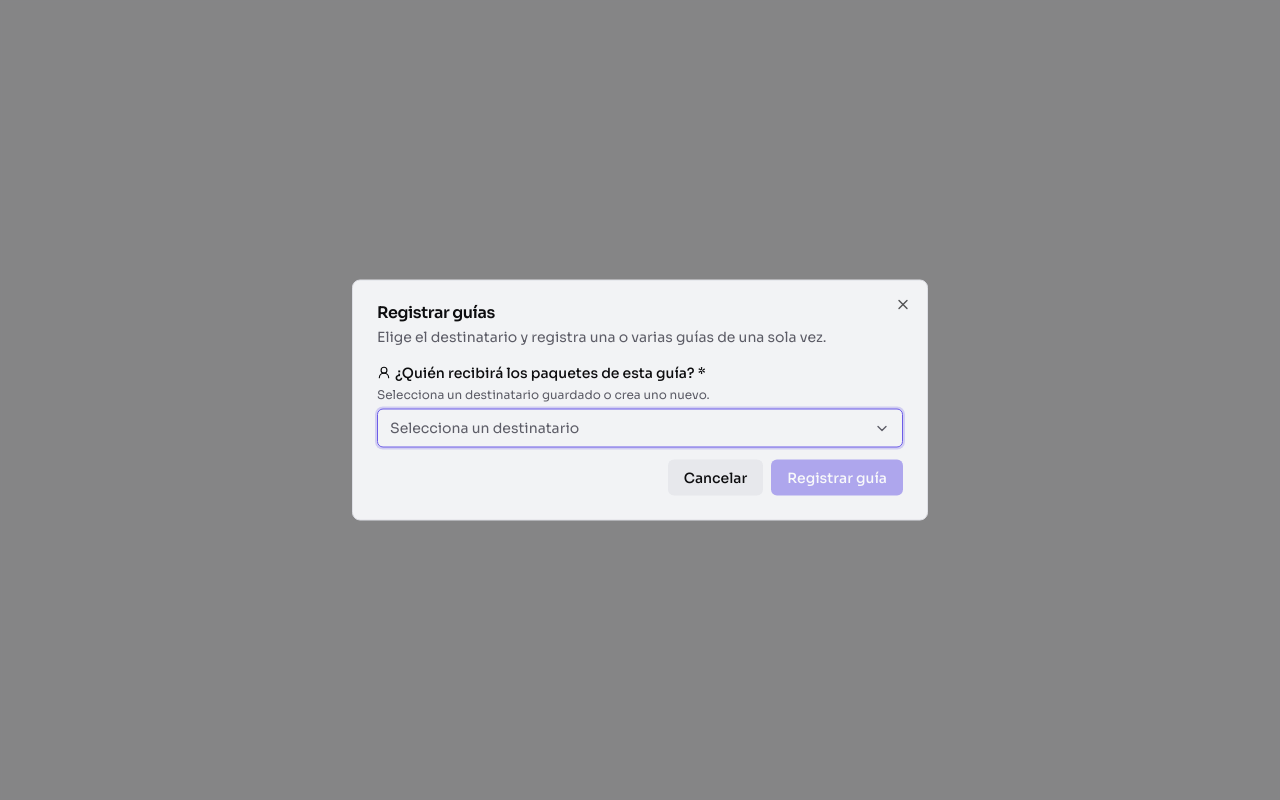
RegistrarMisGuiasDialog · ayuda de número de guía › muestra un aviso NO bloqueante si el valor parece un número de pedido
Step 1. Click the button named "quién recibirá" → {"x": 485, "y": 428}, box left=377, top=408, right=903, bottom=448
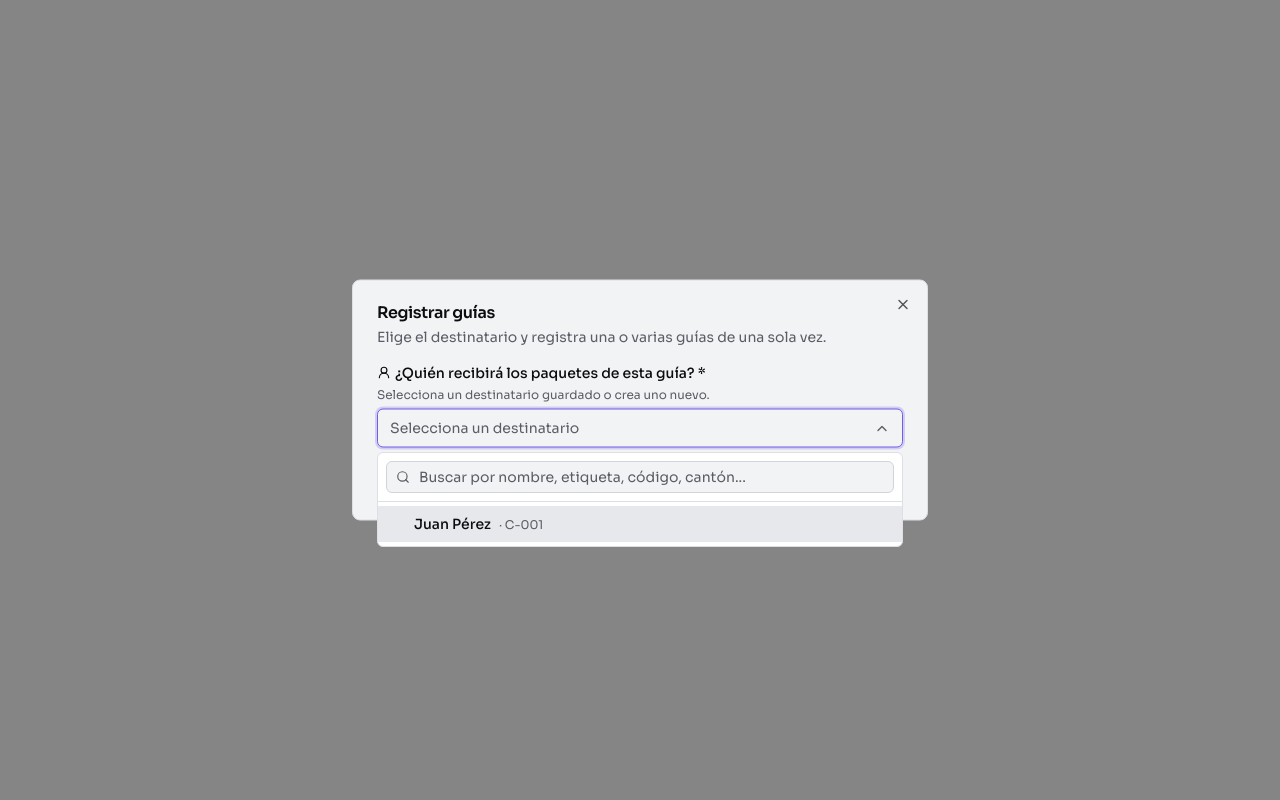
Step 2. Click the text "Juan Pérez" → {"x": 452, "y": 524}, box left=414, top=514, right=491, bottom=534
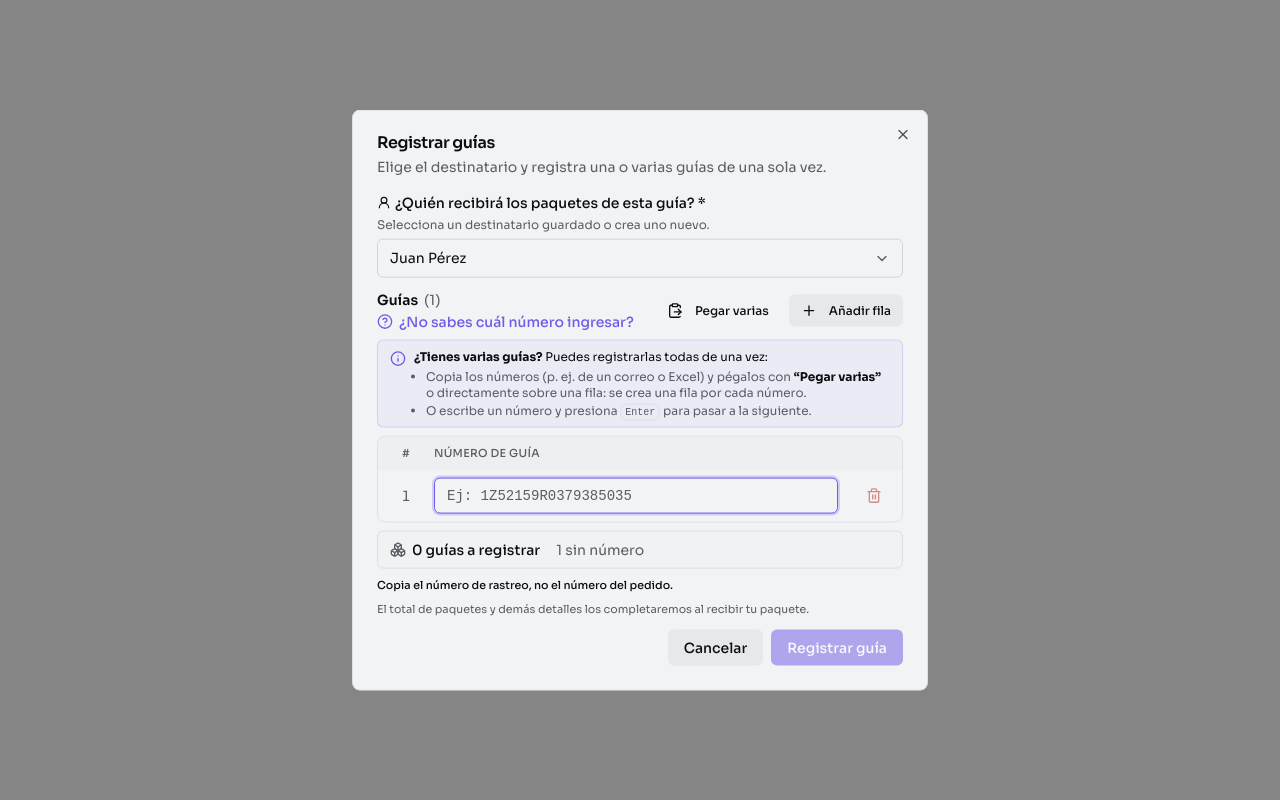
Step 3. Type "114-1234567-1234567" into the field with placeholder "Ej: 1Z52159R0379385035" → {"x": 636, "y": 495}, box left=434, top=477, right=838, bottom=513
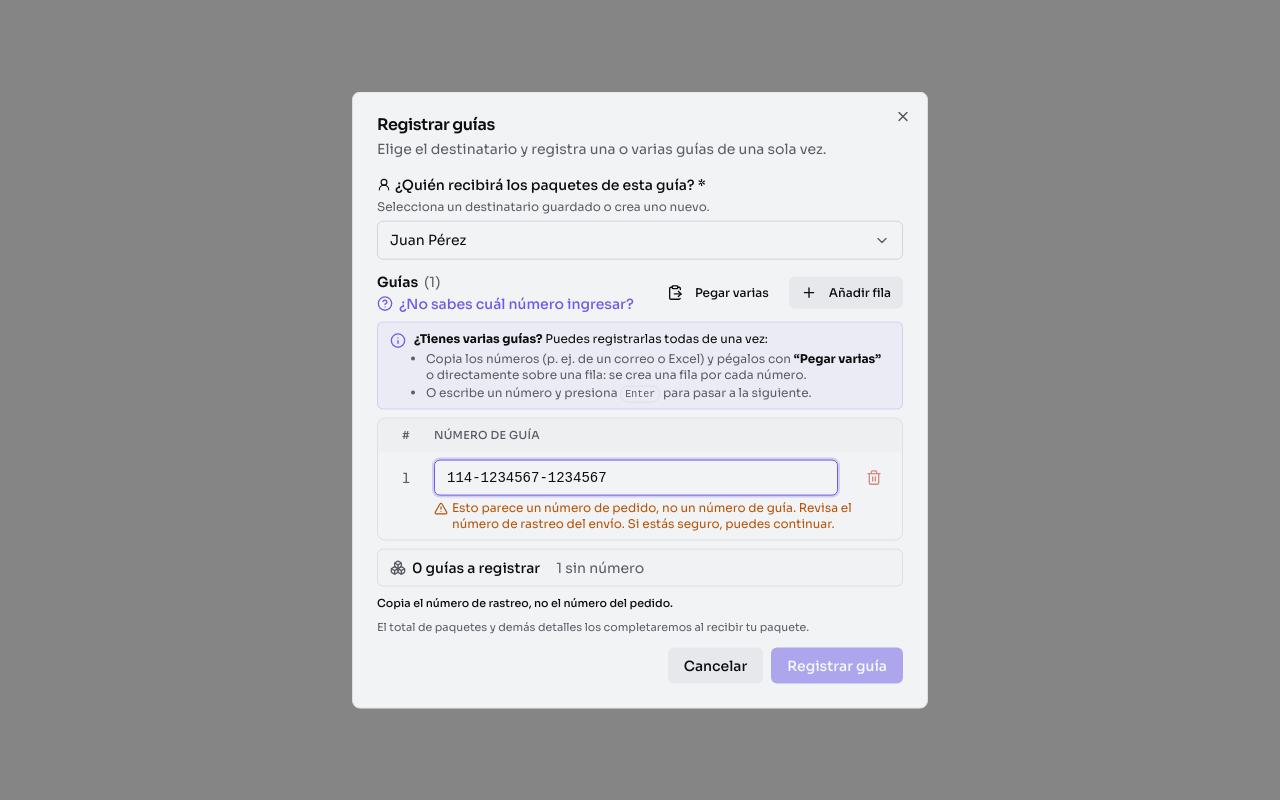
Expected: the text "parece un número de pedido" is shown, left=452, top=499, right=852, bottom=530
